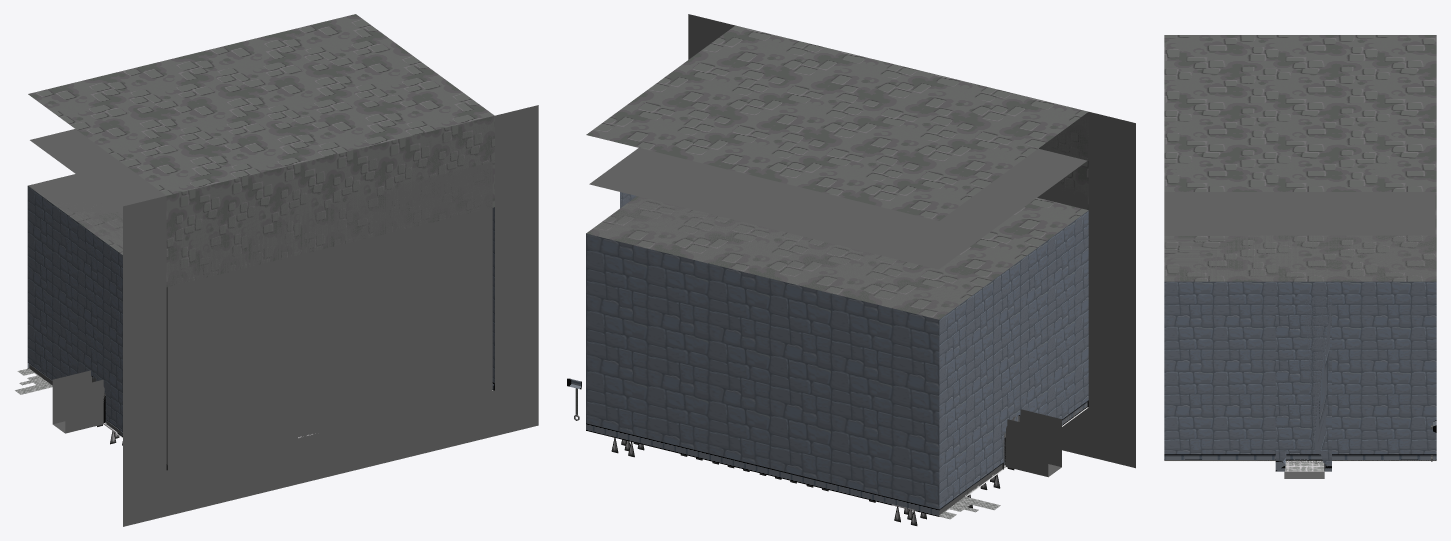
The model's file is gon_07_bake.dae.
The picture shows the model from 3 angles, left to right: view 1: azimuth 30°, elevation 25°; view 2: azimuth 150°, elevation 25°; view 3: azimuth 270°, elevation 25°; orthographic projection. The views are drawn at different scales.
Parts seen in each view (by area): view 1: ten, a_kabemae, kuro7, a_togeue01, polySurface209_q00028_part0, polySurface409_q00012, a_togeshita, polySurface753_q00026_part0; view 2: ten, polySurface212_q00029_part0, a_togeue01, polySurface209_q00028_part0, kuro7, polySurface409_q00012, polySurface212_q00029_part1; view 3: ten, polySurface754_q00030_part0, a_togeue01, polySurface161_q00015_part0, polySurface161_q00007_part0, polySurface754_q00030_part1, polySurface754_q00017_part0, polySurface753_q00027, polySurface757_q00011, polySurface208_q00032.
Boxes of the visible parts, box(x1,y1,x2,y2) form: ten: box(28, 14, 494, 286); a_kabemae: box(167, 208, 492, 469); kuro7: box(123, 105, 538, 526); a_togeue01: box(30, 129, 492, 286); polySurface209_q00028_part0: box(27, 186, 122, 431); polySurface409_q00012: box(52, 370, 104, 433); a_togeshita: box(106, 342, 319, 437); polySurface753_q00026_part0: box(81, 397, 103, 429); ten: box(586, 25, 1088, 319); polySurface212_q00029_part0: box(586, 233, 939, 509); a_togeue01: box(589, 148, 1087, 318); polySurface209_q00028_part0: box(939, 210, 1088, 508); kuro7: box(688, 14, 1135, 468); polySurface409_q00012: box(1006, 409, 1061, 476); polySurface212_q00029_part1: box(586, 423, 939, 516); ten: box(1164, 35, 1436, 281); polySurface754_q00030_part0: box(1164, 281, 1436, 454); a_togeue01: box(1164, 192, 1435, 280); polySurface161_q00015_part0: box(1275, 286, 1331, 464); polySurface161_q00007_part0: box(1276, 297, 1331, 464); polySurface754_q00030_part1: box(1164, 454, 1436, 460); polySurface754_q00017_part0: box(1275, 281, 1331, 454); polySurface753_q00027: box(1285, 461, 1324, 471); polySurface757_q00011: box(1284, 460, 1324, 478); polySurface208_q00032: box(1164, 460, 1436, 461).
Bounding box in the file's own units: 95 × 70 × 55.
